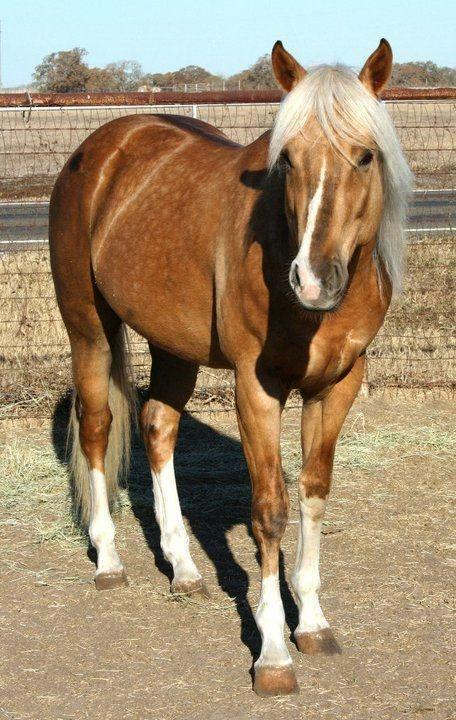horse: (47, 37, 414, 697)
